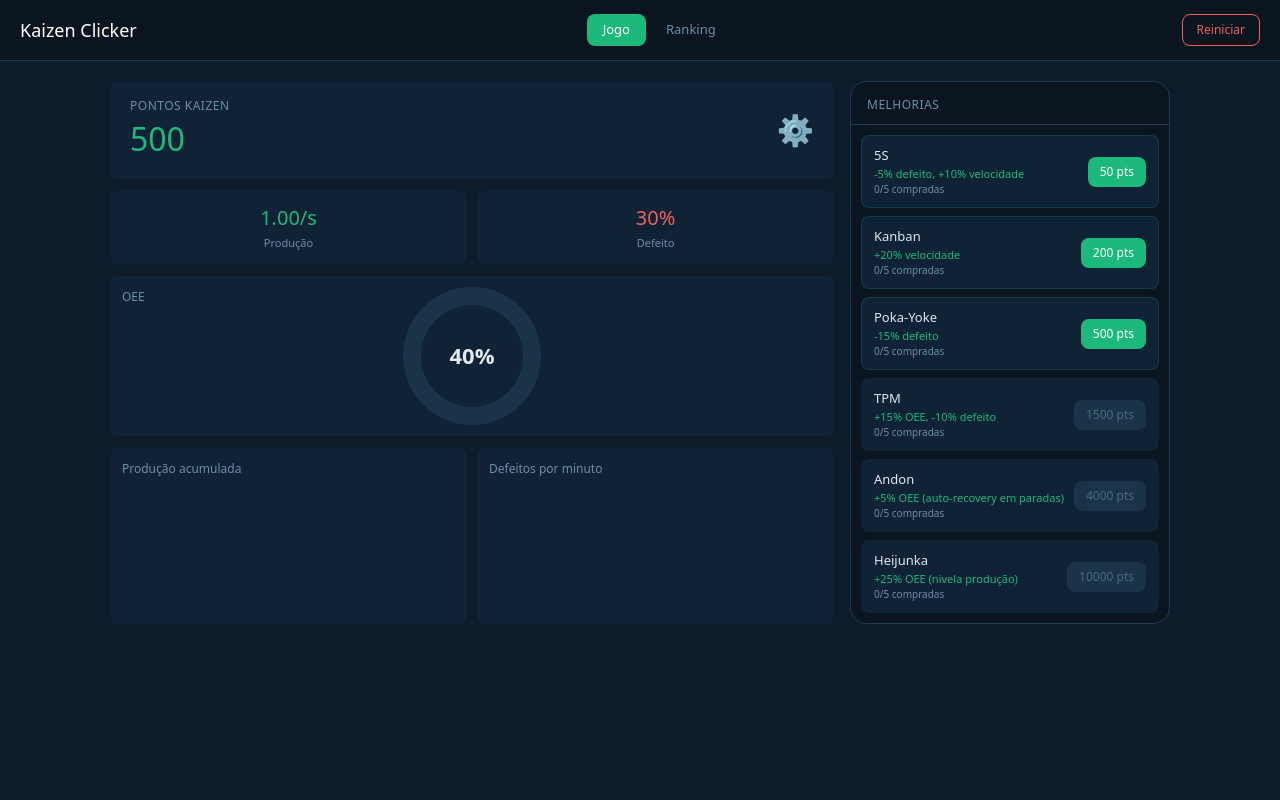
Test: App › abre o modal de confirmação ao clicar em Reiniciar, e reinicia o jogo ao confirmar
Click the button "Reiniciar". click: (1221, 30)
box: [1182,14,1260,46]
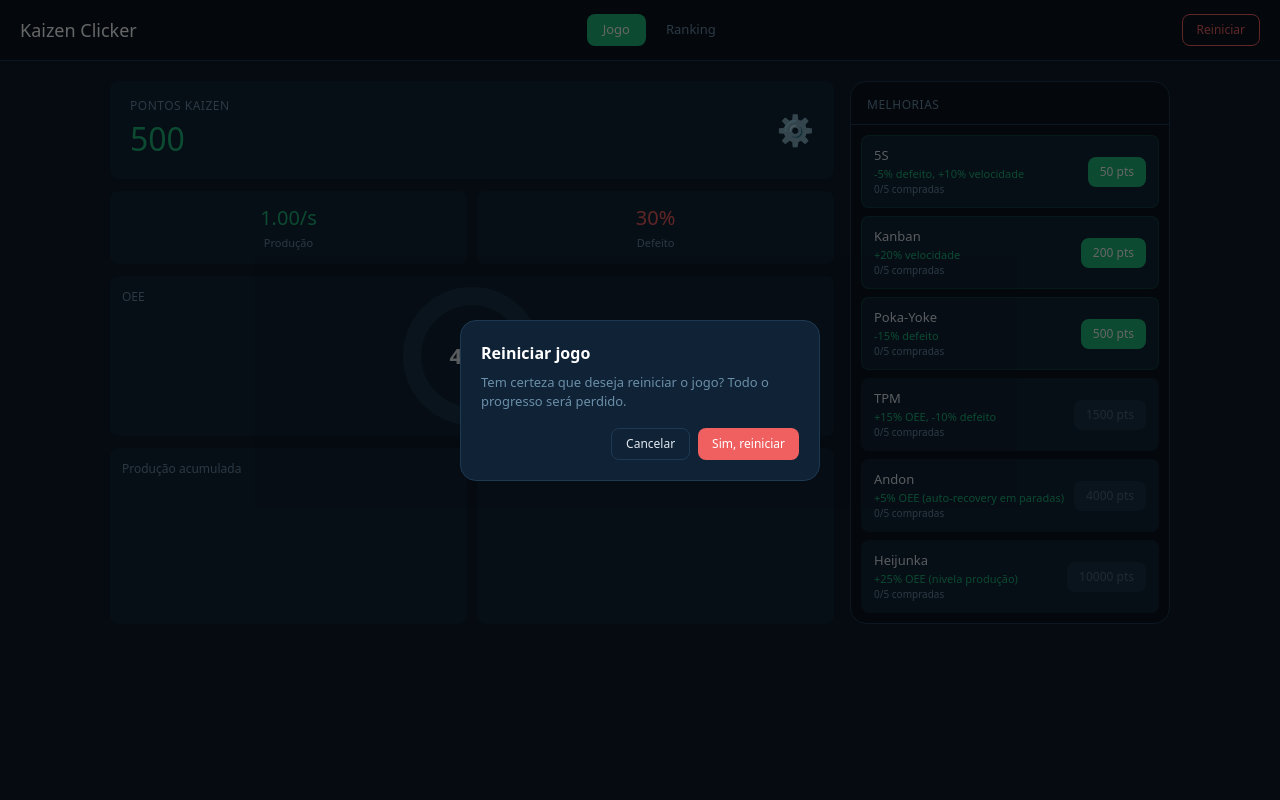
Expected: the heading "Reiniciar jogo" is shown, [481,342,590,364]
Click the button "Sim, reiniciar". click: (749, 444)
box: [698,428,799,460]
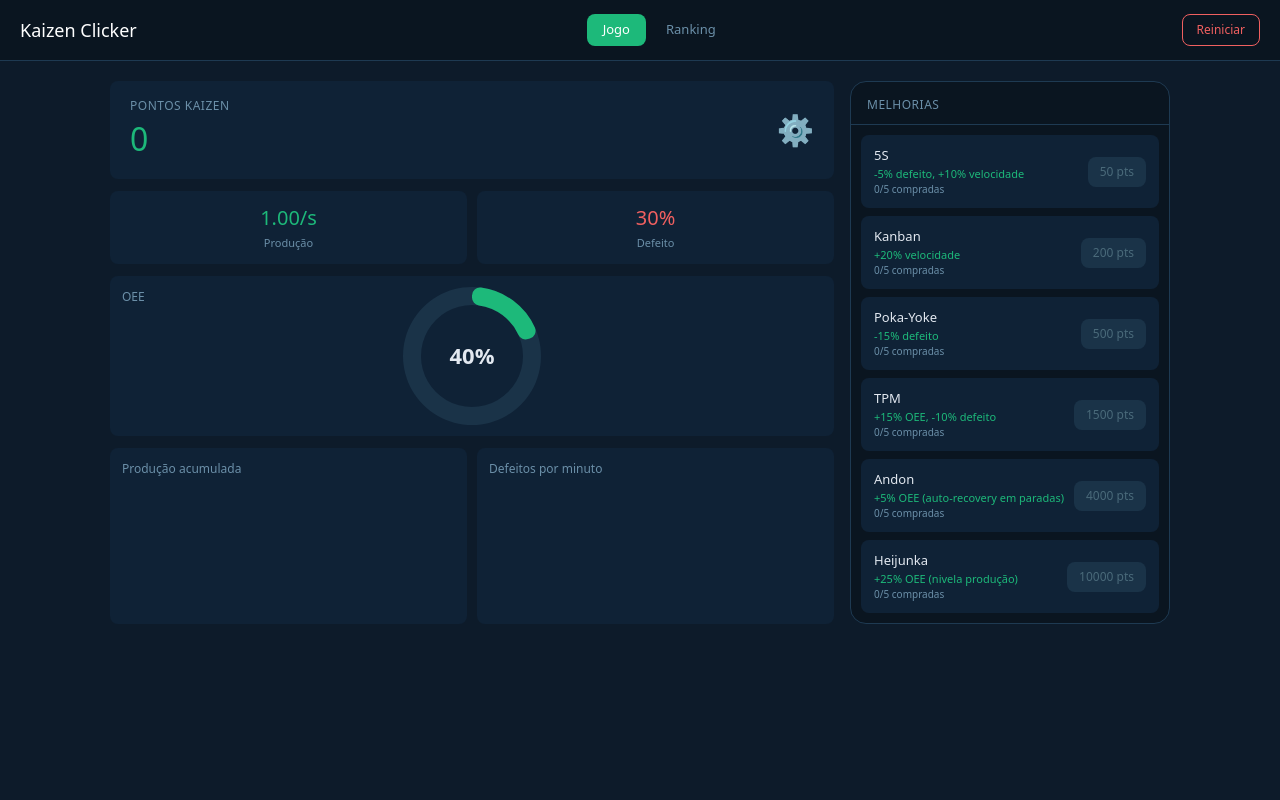
Expected: the heading "Reiniciar jogo" is gone
